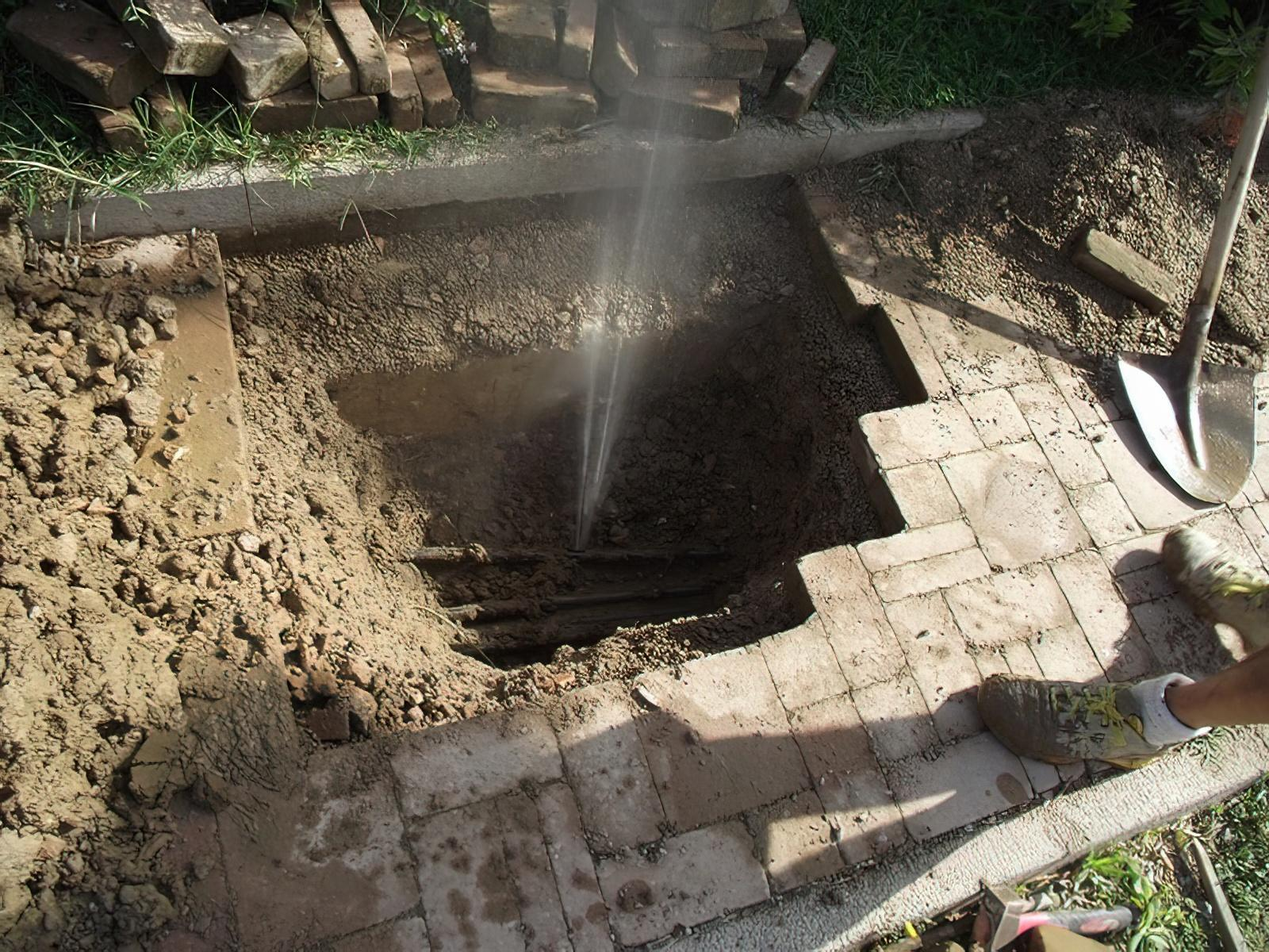pipe burst: (562, 0, 738, 559)
